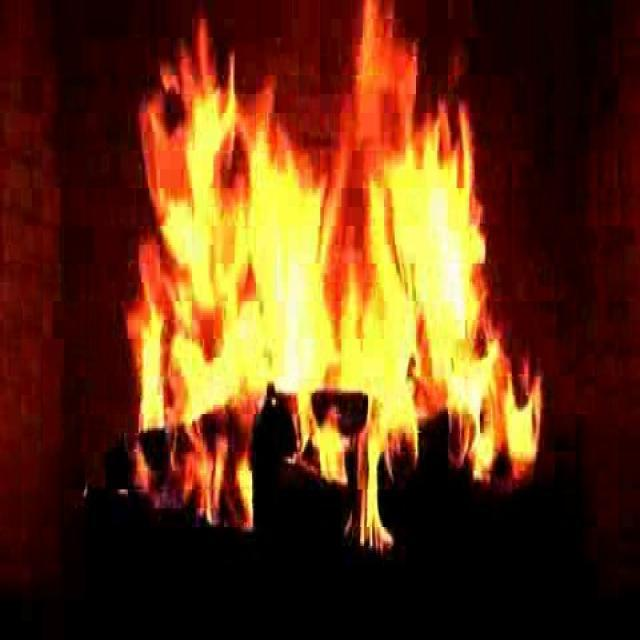Fire: (120, 63, 497, 510)
